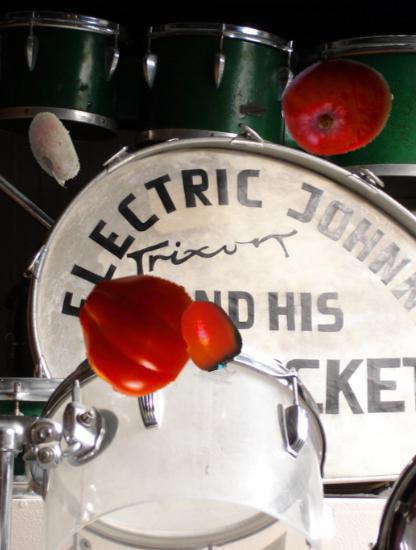Kaki: (175, 298, 247, 370)
Mango: (281, 50, 395, 164)
Potato: (13, 109, 96, 192)
Tomato: (74, 268, 200, 394)
